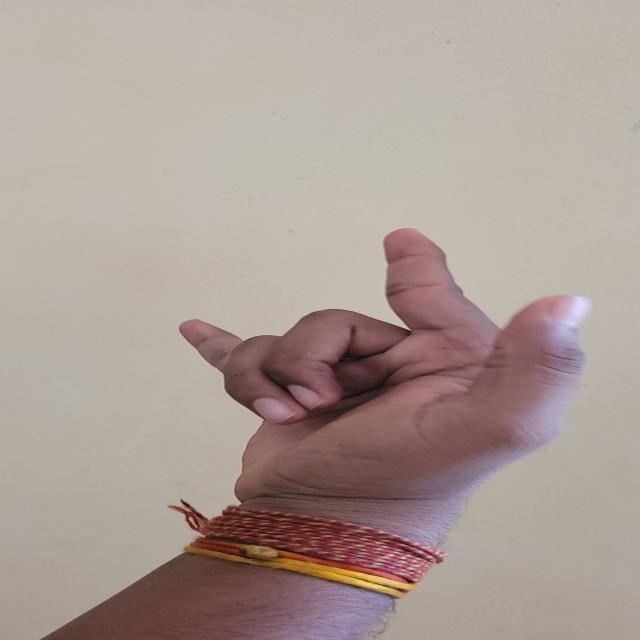i like you: (50, 223, 640, 561)
